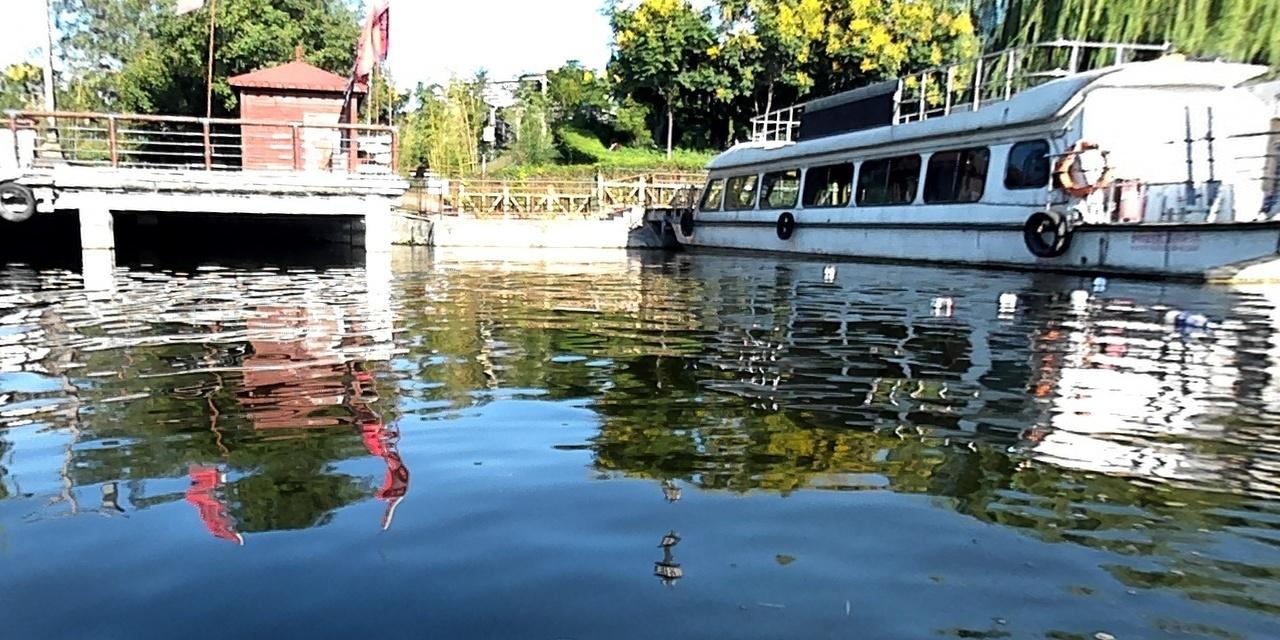bottle: (1162, 304, 1211, 329), (993, 288, 1020, 304), (928, 294, 954, 309), (1067, 287, 1090, 301)
